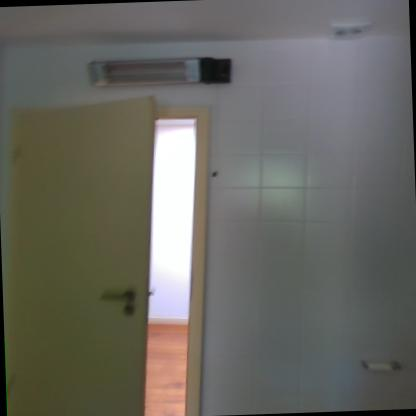semi: (0, 83, 224, 416)
